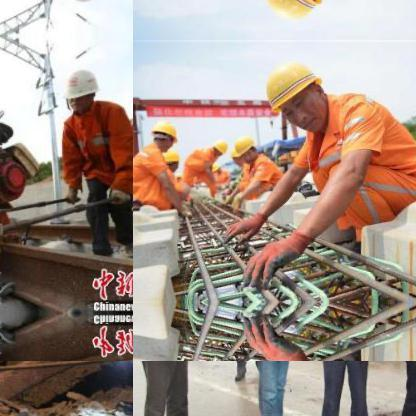Helmet: (255, 52, 333, 134), (60, 60, 100, 118), (254, 0, 335, 27), (148, 118, 178, 152), (230, 132, 256, 162), (162, 142, 178, 172), (59, 0, 101, 9), (209, 138, 228, 156), (209, 159, 222, 171)
